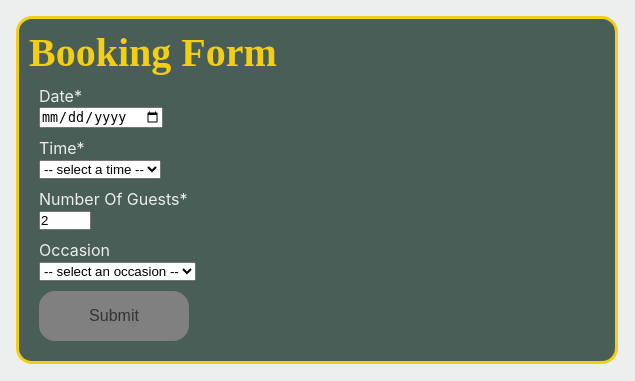
Test: Test form is disabled when date and time selected but number ofguests is invalid
Step 1. Type "2024-08-18" into the date field labelled "Date*" → (101, 117), box [39,107,163,128]
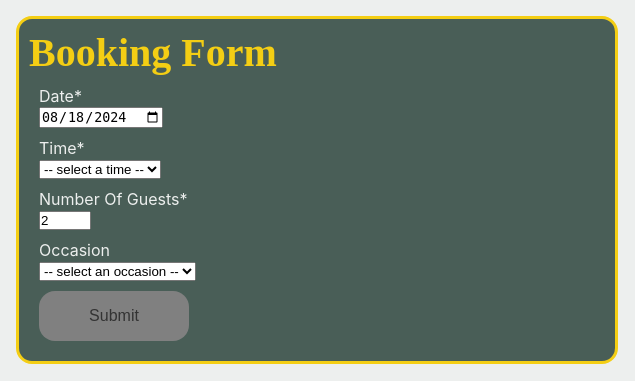
Step 2. Select "18:00" in the dropdown labelled "Time*" → (100, 170), box [39,160,161,179]
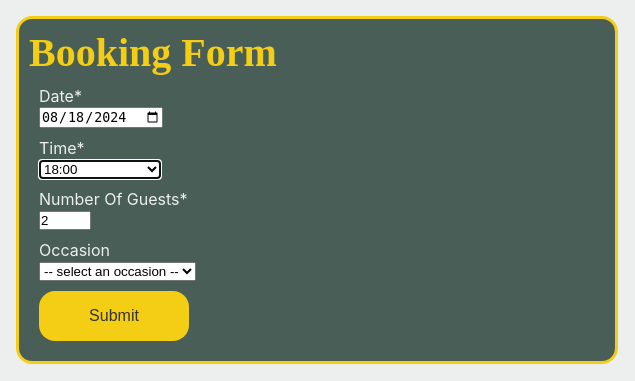
Step 3. Replace the text in the number field labelled "Number Of Guests*" with "0" → (65, 221), box [39,211,91,230]
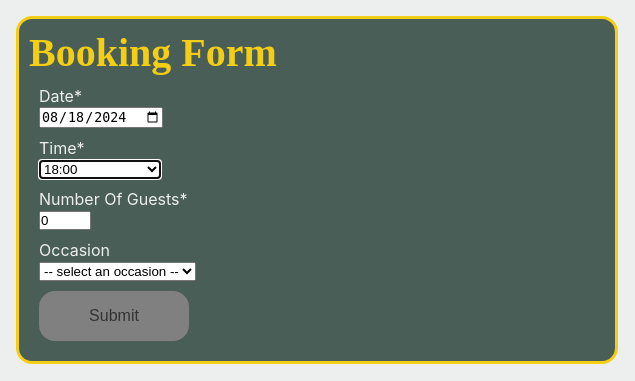
Expected: the button is disabled, [39,291,189,341]
